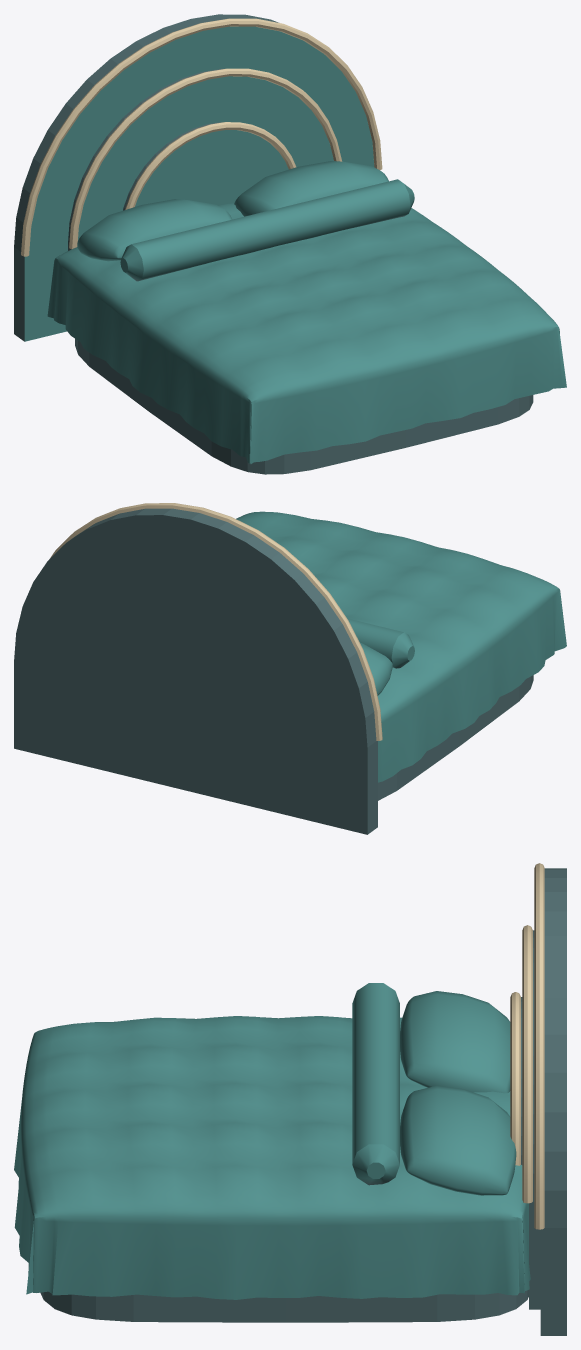
The model's file is KC32__AD_Int_Bed_Satin.glb.
The picture shows the model from 3 angles, top to bottom: view 1: azimuth 30°, elevation 25°; view 2: azimuth 150°, elevation 25°; view 3: azimuth 270°, elevation 25°; orthographic projection. The views are drawn at different scales.
Parts seen in each view (by area): view 1: KC32_CORPS__AD_Int_Bed_Satin, KC32_BRONZE__AD_Int_Bed_Satin; view 2: KC32_CORPS__AD_Int_Bed_Satin, KC32_BRONZE__AD_Int_Bed_Satin; view 3: KC32_CORPS__AD_Int_Bed_Satin, KC32_BRONZE__AD_Int_Bed_Satin.
Part boxes in pixels (left/top/right/bottom): KC32_CORPS__AD_Int_Bed_Satin: left=14, top=14, right=566, bottom=474; KC32_BRONZE__AD_Int_Bed_Satin: left=21, top=18, right=382, bottom=256; KC32_CORPS__AD_Int_Bed_Satin: left=14, top=508, right=566, bottom=834; KC32_BRONZE__AD_Int_Bed_Satin: left=50, top=503, right=382, bottom=740; KC32_CORPS__AD_Int_Bed_Satin: left=14, top=868, right=566, bottom=1335; KC32_BRONZE__AD_Int_Bed_Satin: left=510, top=863, right=544, bottom=1229.
Bounding box in the file's own units: 2.16 × 1.58 × 2.32.
